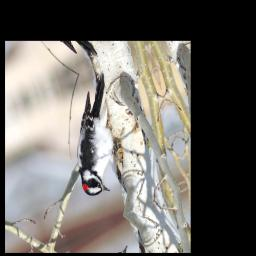Woodpecker: (54, 70, 138, 203)
